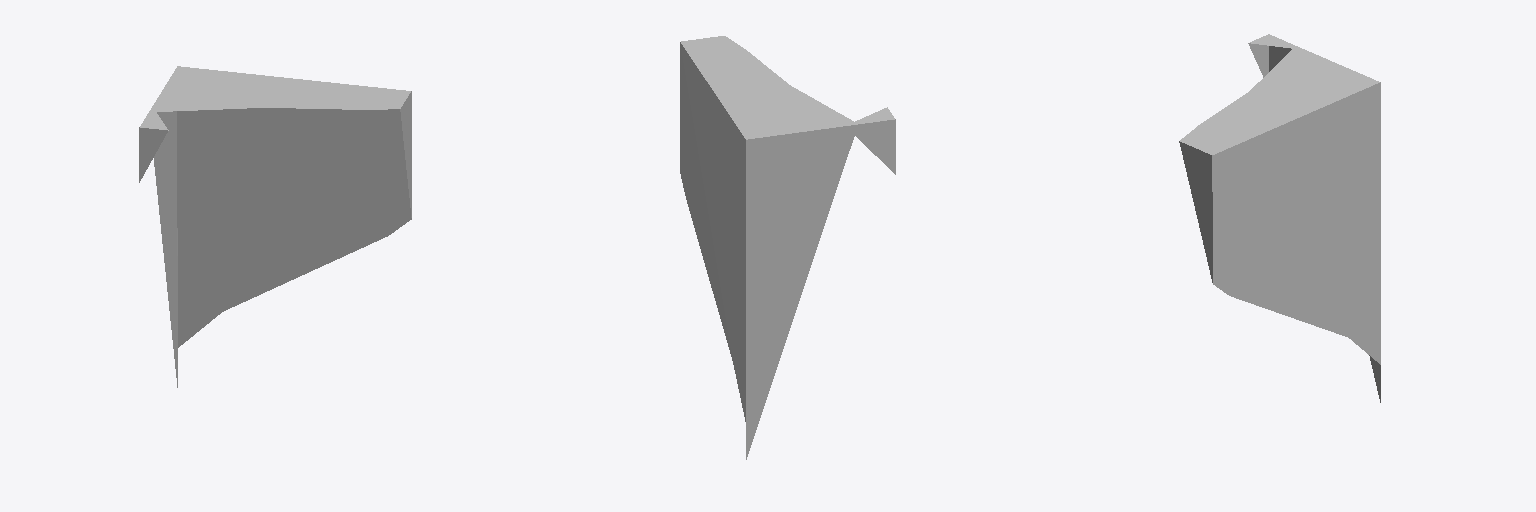
File: li-fang-ti-.001_cell.111.obj
3 renders of one model, left to right at view 1: azimuth 30°, elevation 25°; view 2: azimuth 150°, elevation 25°; view 3: azimuth 270°, elevation 25°, orthographic.
Visible parts, largest first — view 1: 立方体.001_cell.111; view 2: 立方体.001_cell.111; view 3: 立方体.001_cell.111.
Boxes of the visible parts, x1,y1,x2,y2 form: 立方体.001_cell.111: [139, 66, 411, 387]; 立方体.001_cell.111: [680, 36, 895, 459]; 立方体.001_cell.111: [1179, 34, 1380, 402].
Size of the model in its own units: 0.1602 by 0.2036 by 0.1146.